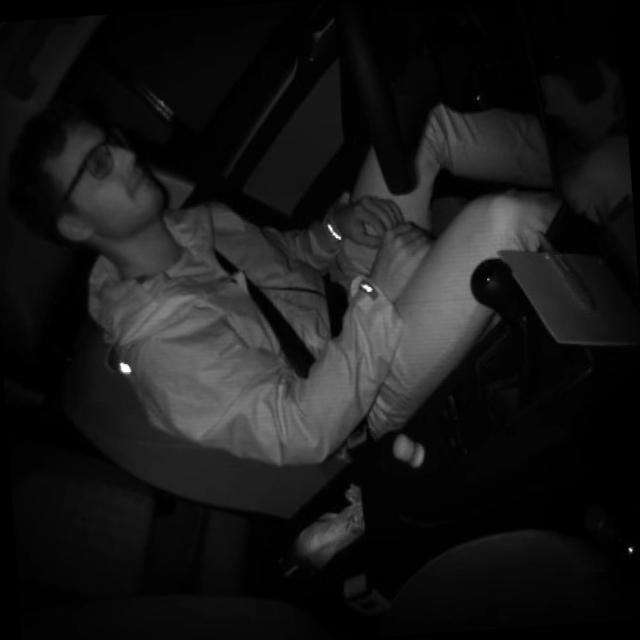pen: (534, 224, 598, 318)
